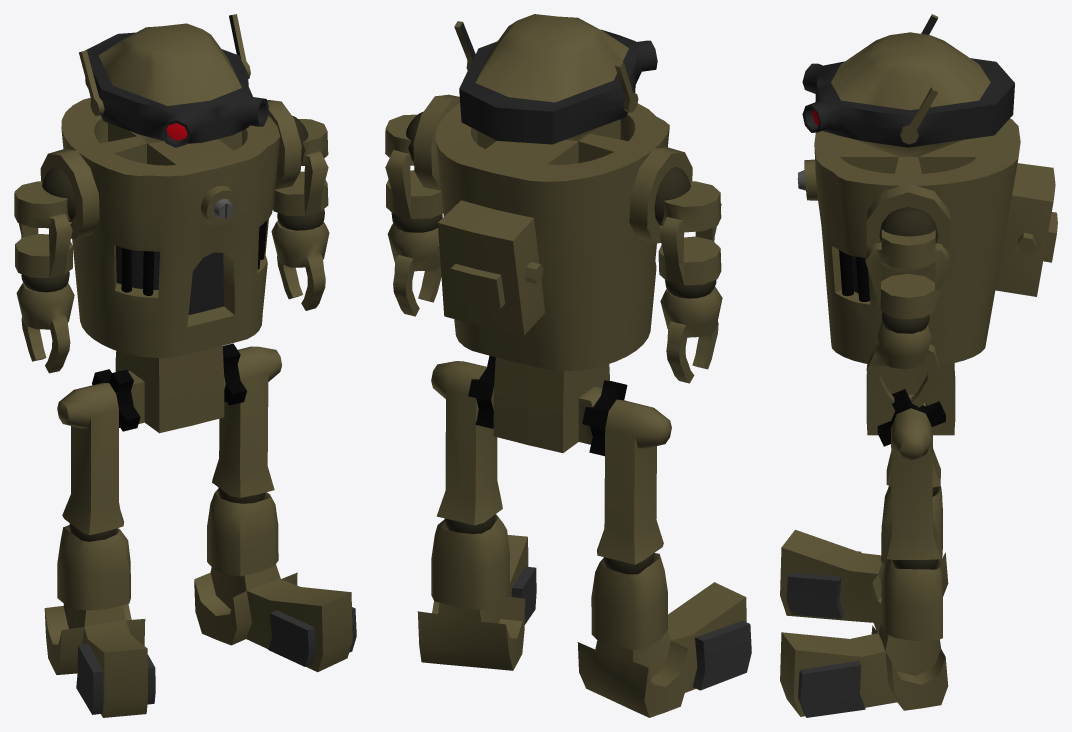
File: brokenbottype2.fbx
The picture shows the model from 3 angles, left to right: view 1: azimuth 30°, elevation 25°; view 2: azimuth 150°, elevation 25°; view 3: azimuth 270°, elevation 25°; orthographic projection. The views are drawn at different scales.
Visible parts, largest first — view 1: Cylinder, Cylinder.002, Cylinder.006, Cylinder.008, Cylinder.009, Cylinder.007, Cylinder.010, Cylinder.004, Cylinder.005, Cylinder.001, Sphere.005, Sphere.001 (+1 smaller); view 2: Cylinder, Cylinder.002, Cylinder.008, Cylinder.006, Cylinder.003, Cylinder.009, Cylinder.007, Cylinder.010, Cylinder.004, Cylinder.001, Cylinder.005, Sphere.005 (+2 smaller); view 3: Cylinder, Cylinder.002, Cylinder.006, Cylinder.008, Cylinder.007, Cylinder.003, Cylinder.001, Cylinder.005, Sphere, Sphere.001.
Boxes of the visible parts, x1=… form: Cylinder: x1=40, y1=97, x2=301, y2=433; Cylinder.002: x1=79, y1=14, x2=268, y2=147; Cylinder.006: x1=194, y1=489, x2=356, y2=672; Cylinder.008: x1=44, y1=525, x2=155, y2=717; Cylinder.009: x1=57, y1=383, x2=123, y2=535; Cylinder.007: x1=212, y1=346, x2=281, y2=497; Cylinder.010: x1=14, y1=181, x2=73, y2=277; Cylinder.004: x1=16, y1=283, x2=74, y2=373; Cylinder.005: x1=271, y1=221, x2=329, y2=310; Cylinder.001: x1=273, y1=119, x2=328, y2=215; Sphere.005: x1=42, y1=167, x2=75, y2=222; Sphere.001: x1=277, y1=209, x2=324, y2=230; Cylinder: x1=413, y1=94, x2=692, y2=456; Cylinder.002: x1=454, y1=14, x2=657, y2=144; Cylinder.008: x1=577, y1=553, x2=751, y2=717; Cylinder.006: x1=417, y1=514, x2=536, y2=670; Cylinder.003: x1=435, y1=200, x2=545, y2=335; Cylinder.009: x1=597, y1=399, x2=671, y2=564; Cylinder.007: x1=431, y1=361, x2=502, y2=525; Cylinder.010: x1=658, y1=181, x2=721, y2=285; Cylinder.004: x1=660, y1=287, x2=722, y2=383; Cylinder.001: x1=385, y1=114, x2=443, y2=218; Cylinder.005: x1=387, y1=223, x2=441, y2=316; Sphere.005: x1=654, y1=166, x2=690, y2=225; Cylinder: x1=797, y1=118, x2=1020, y2=452; Cylinder.002: x1=802, y1=14, x2=1014, y2=156; Cylinder.006: x1=780, y1=559, x2=948, y2=717; Cylinder.008: x1=780, y1=485, x2=948, y2=632; Cylinder.007: x1=886, y1=408, x2=940, y2=560; Cylinder.003: x1=995, y1=163, x2=1057, y2=296; Cylinder.001: x1=865, y1=229, x2=949, y2=319; Cylinder.005: x1=866, y1=322, x2=939, y2=407; Sphere: x1=879, y1=206, x2=938, y2=243; Sphere.001: x1=881, y1=312, x2=929, y2=333.
Bounding box in the file's own units: 153 × 291 × 120.
